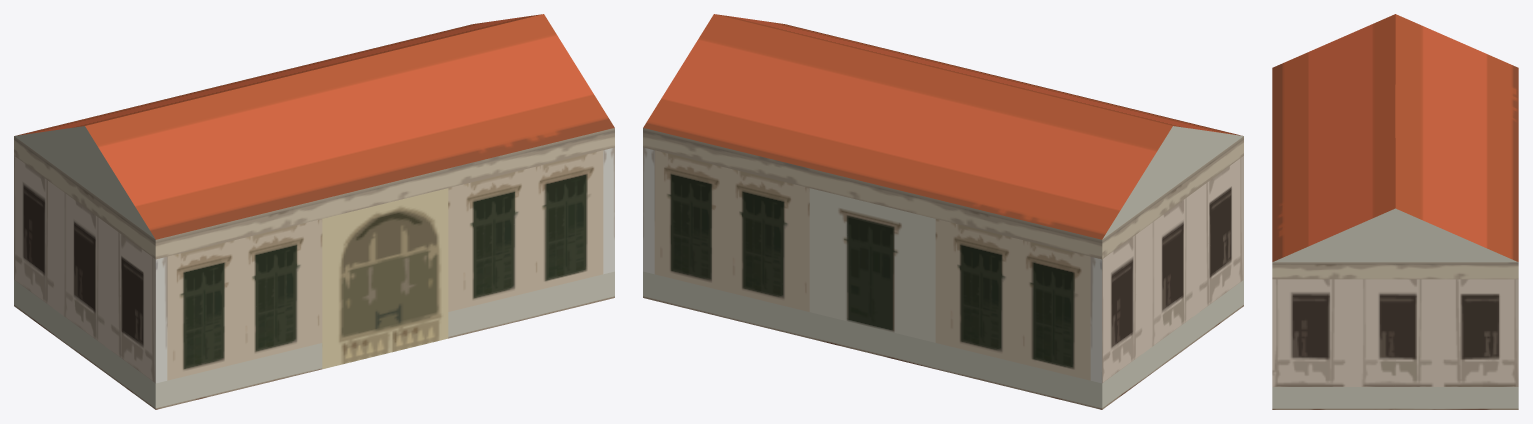
File: SM_Building_Rich_03.fbx
The picture shows the model from 3 angles, left to right: view 1: azimuth 30°, elevation 25°; view 2: azimuth 150°, elevation 25°; view 3: azimuth 270°, elevation 25°; orthographic projection. The views are drawn at different scales.
Parts seen in each view (by area): view 1: SM_Building_Rich_03; view 2: SM_Building_Rich_03; view 3: SM_Building_Rich_03.
Part boxes in pixels (box(x1,y1,x2,y2)): SM_Building_Rich_03: box(14, 14, 614, 409); SM_Building_Rich_03: box(643, 14, 1243, 409); SM_Building_Rich_03: box(1272, 14, 1518, 409).
Size of the model in its own units: 20.23 by 9.77 by 10.82.
